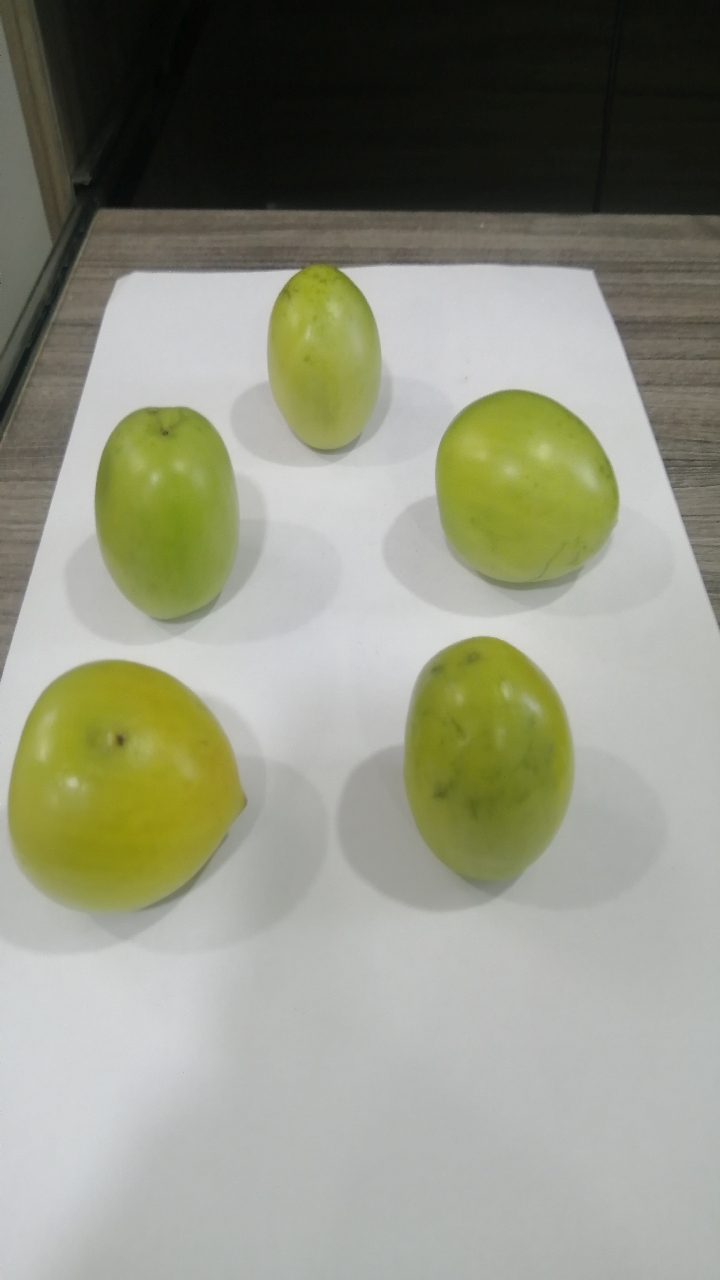tomateVerde: (1, 643, 264, 934), (366, 612, 598, 894), (57, 374, 272, 659), (420, 385, 640, 592), (241, 254, 383, 457)
